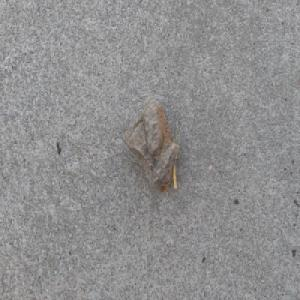Rock: (121, 96, 178, 194)
